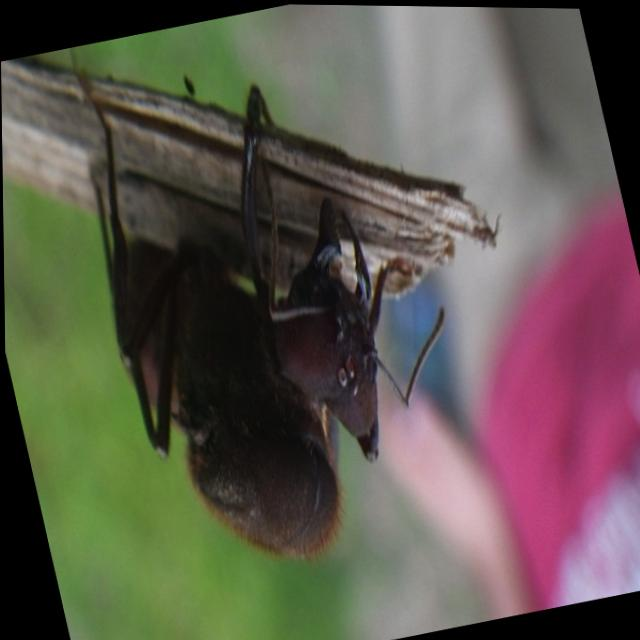Alive-Female-Dealate: (56, 12, 491, 588)
